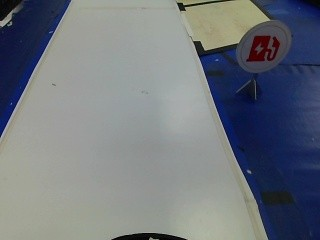battery: (239, 20, 293, 77)
